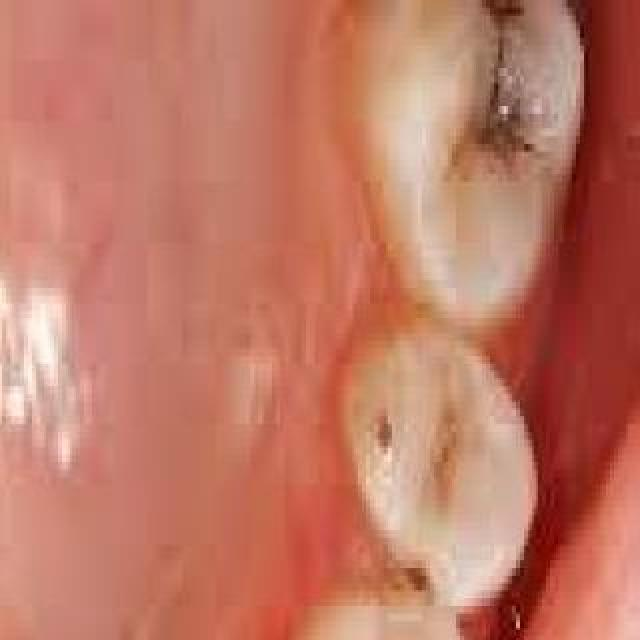cavities: (431, 0, 577, 242), (375, 389, 513, 601)
